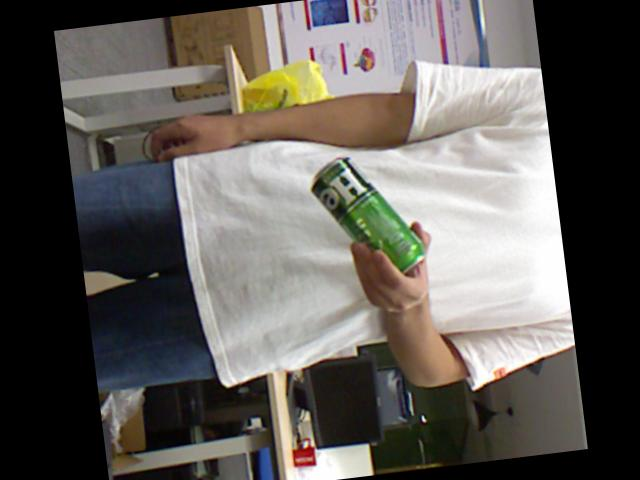metal: (310, 157, 422, 271)
